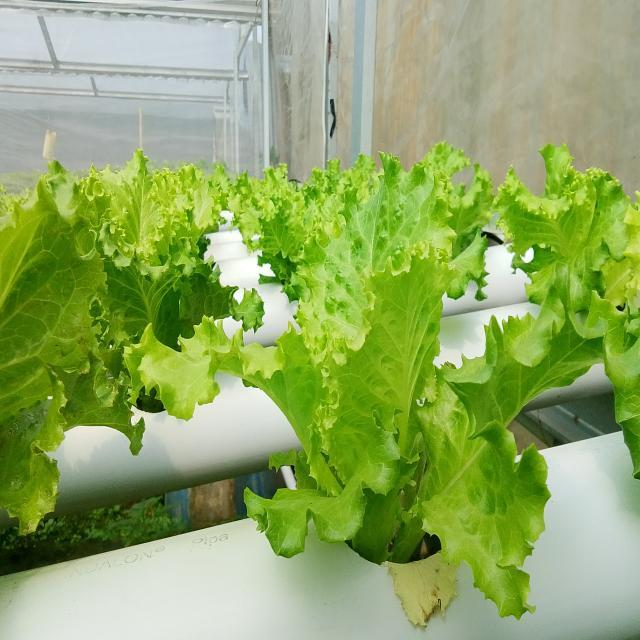Baby: (235, 255, 601, 619), (63, 198, 262, 454)
